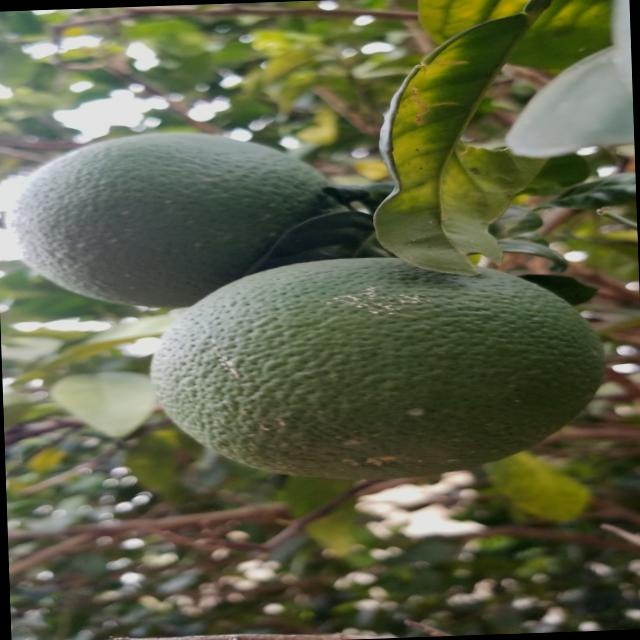agrume: (135, 247, 610, 492), (3, 122, 339, 314)
